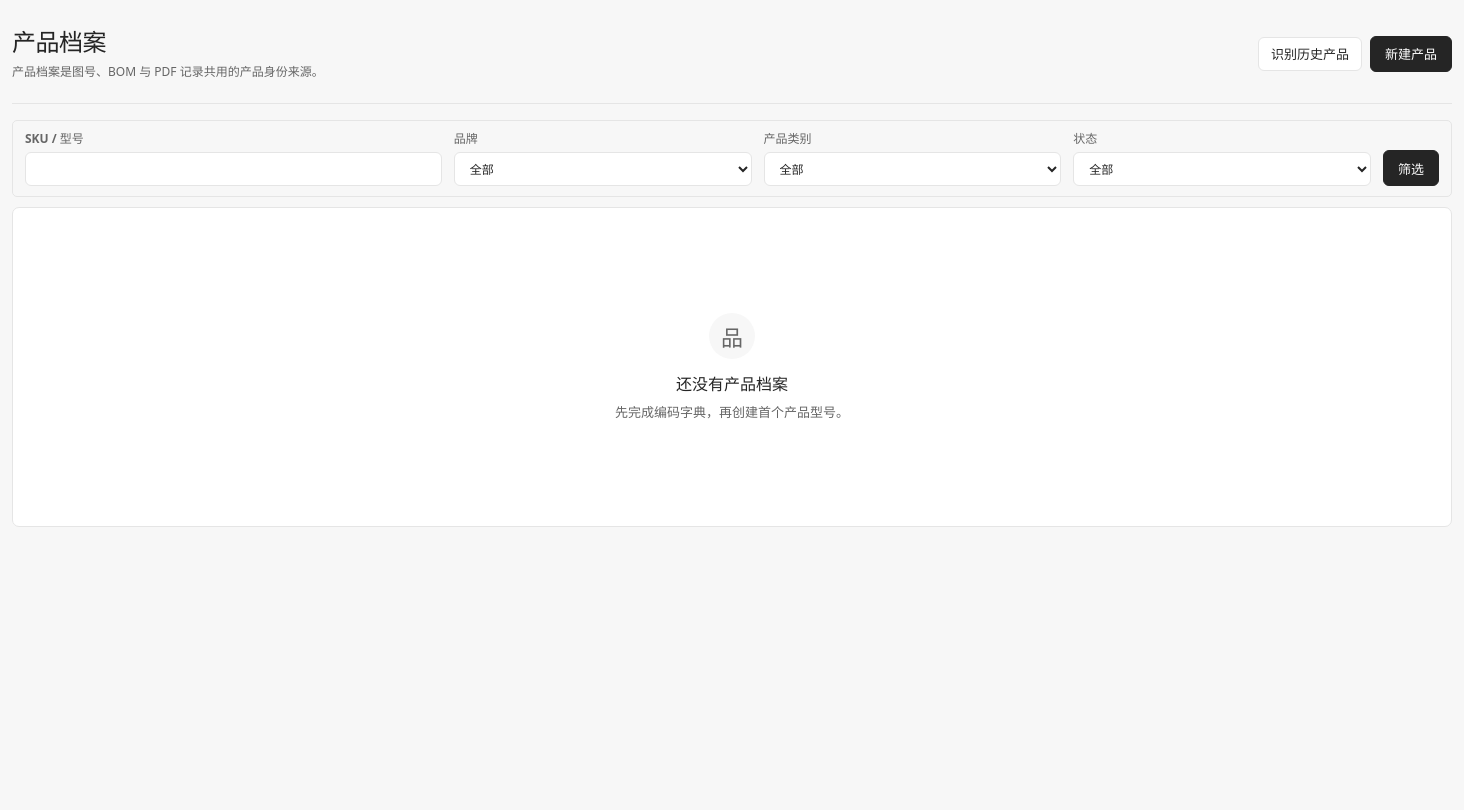
Test: ProductsPage › labels ambiguous historical candidates and does not offer confirmation
Expected: the heading "还没有产品档案" is shown, 676,371 -> 788,395
Click the button "识别历史产品" at (1310, 54), box 1258,36 -> 1362,70
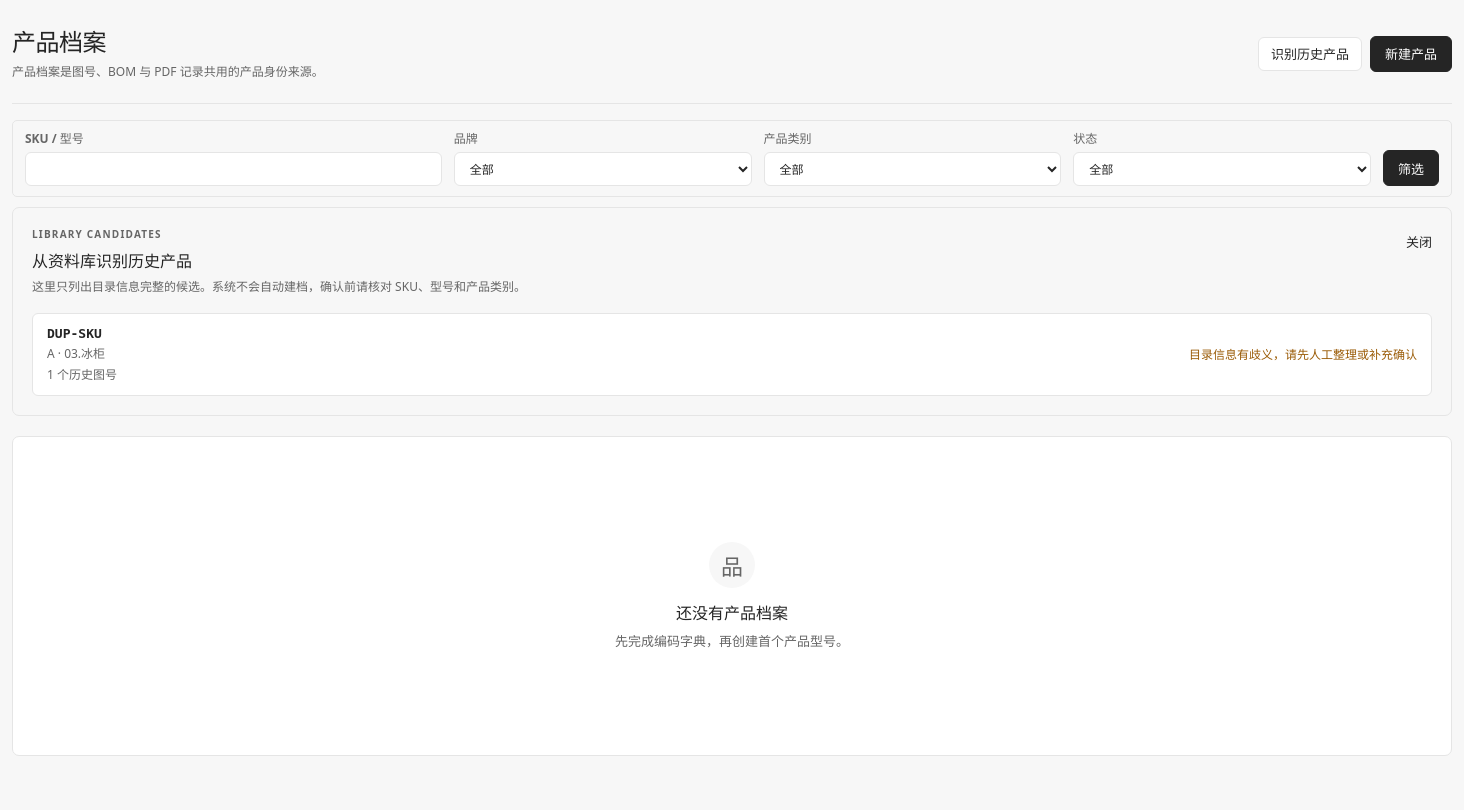
Now the text "目录信息有歧义，请先人工整理或补充确认" is shown, box 1189,345 -> 1417,363
